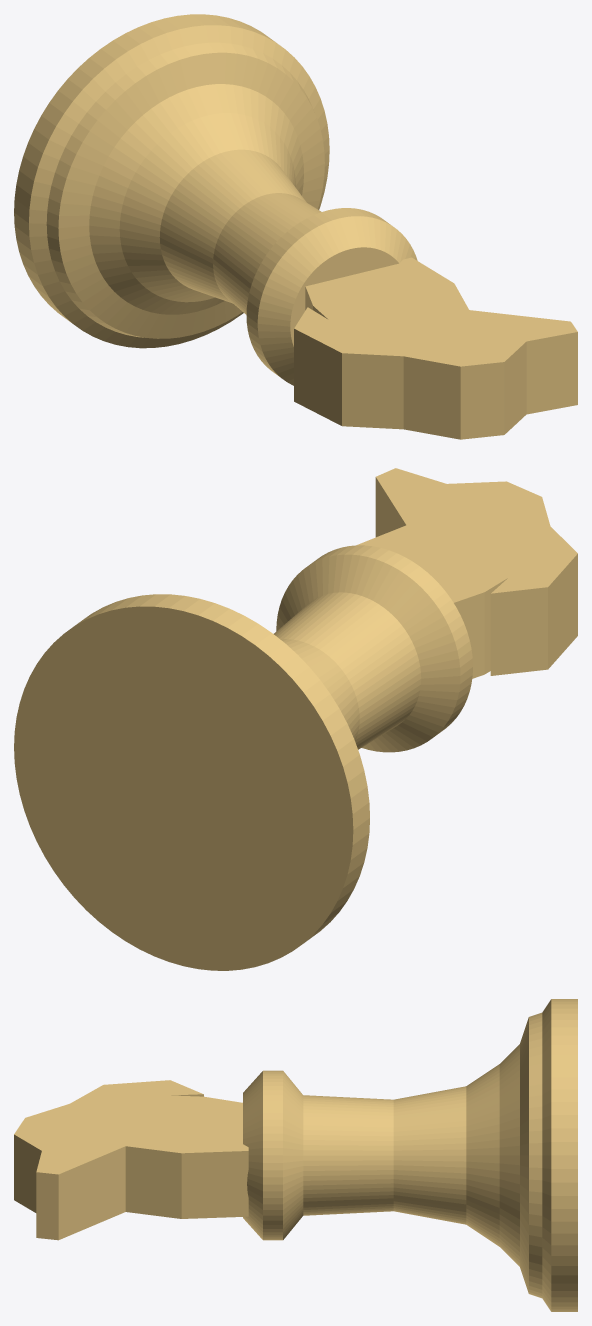
File: ashvarohi_surya.glb
3 renders of one model, top to bottom at view 1: azimuth 30°, elevation 25°; view 2: azimuth 150°, elevation 25°; view 3: azimuth 270°, elevation 25°, orthographic. The views are drawn at different scales.
Visible parts, largest first — view 1: geometry_0; view 2: geometry_0; view 3: geometry_0.
Part boxes in pixels (x1,y1,x2,y2): geometry_0: [14, 14, 577, 439]; geometry_0: [14, 468, 577, 970]; geometry_0: [14, 999, 577, 1311].
Bounding box in the file's own units: 0.028 × 0.028 × 0.0505.
